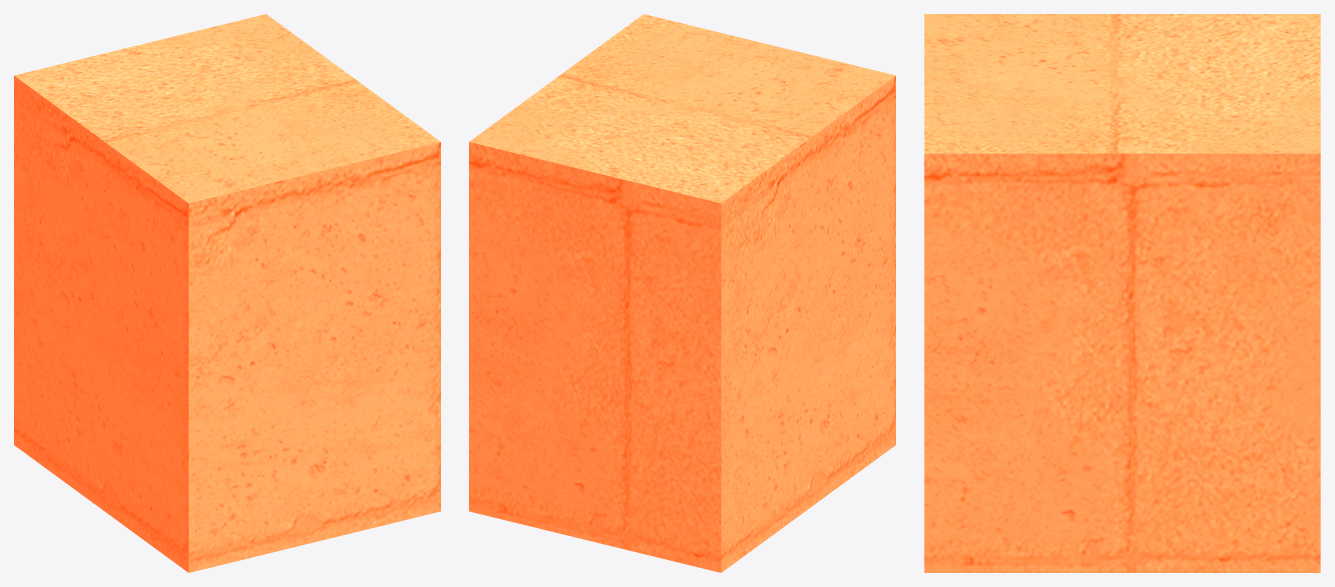
The model's file is SM_Shield_Debris_02.glb.
3 renders of one model, left to right at view 1: azimuth 30°, elevation 25°; view 2: azimuth 150°, elevation 25°; view 3: azimuth 270°, elevation 25°, orthographic. The views are drawn at different scales.
Visible parts, largest first — view 1: SM_Shield_Debris_02; view 2: SM_Shield_Debris_02; view 3: SM_Shield_Debris_02.
Part boxes in pixels (left/top/right/bottom): SM_Shield_Debris_02: left=14, top=14, right=440, bottom=572; SM_Shield_Debris_02: left=469, top=14, right=895, bottom=572; SM_Shield_Debris_02: left=924, top=14, right=1320, bottom=572.
Size of the model in its own units: 0.3125 by 0.4375 by 0.375.
Materials: 1 (1 with a texture image).
